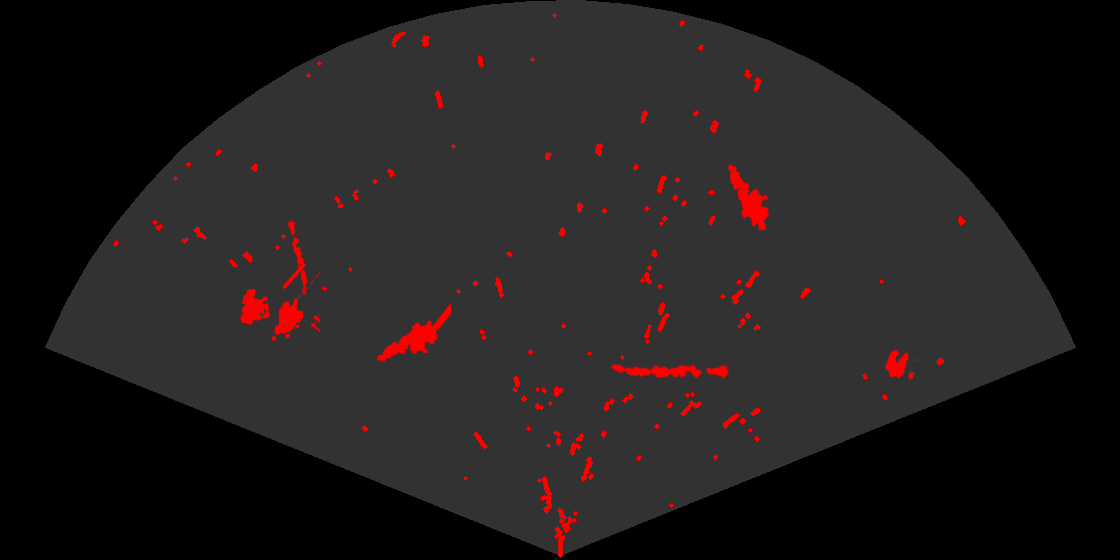ball: (884, 348, 920, 381)
cage: (239, 264, 320, 342)
chain: (609, 362, 729, 380), (286, 216, 309, 297)
frogman: (376, 304, 451, 364), (727, 163, 771, 230)
